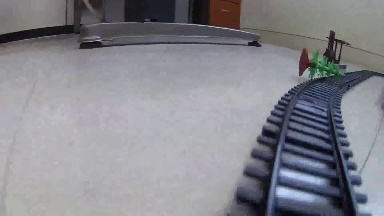tree: (294, 46, 365, 86)
